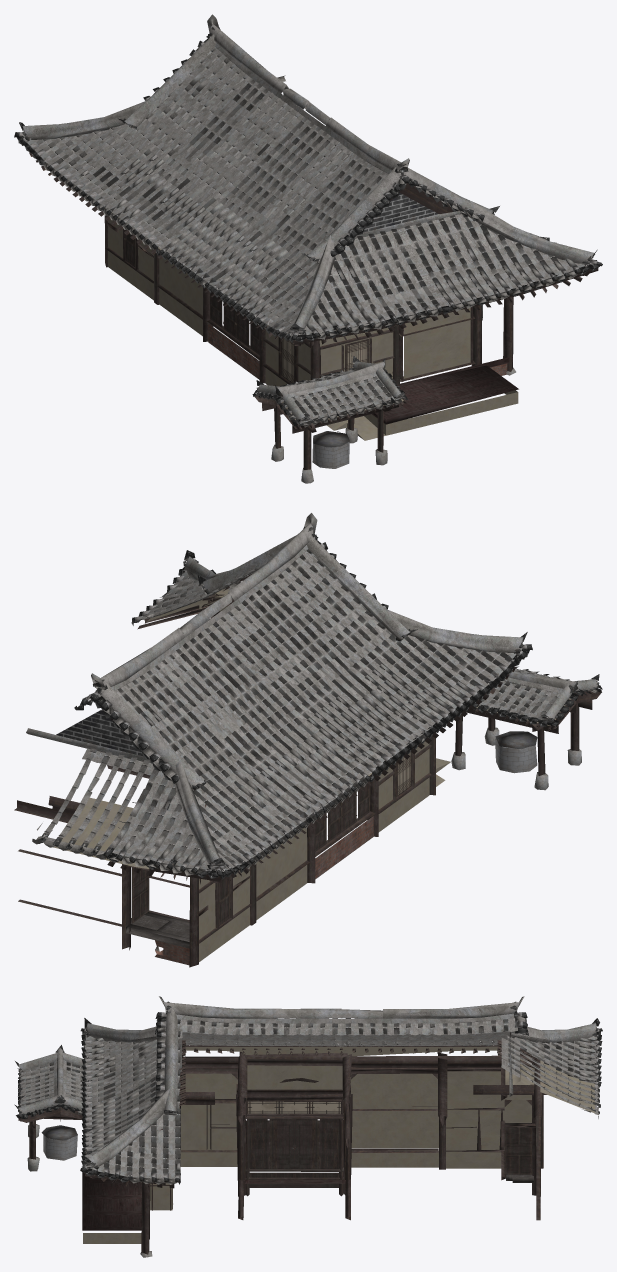
The model's file is gIENGLow2.fbx.
3 views of the same model, one above another, from view 1: azimuth 30°, elevation 25°; view 2: azimuth 150°, elevation 25°; view 3: azimuth 270°, elevation 25° (orthographic). The views are drawn at different scales.
Parts seen in each view (by area): view 1: Sarangchae; view 2: Sarangchae; view 3: Sarangchae.
Part boxes in pixels (x1,y1,x2,y2): Sarangchae: (14,14,602,483); Sarangchae: (14,513,602,967); Sarangchae: (14,996,602,1257).
Bounding box in the file's own units: 1325 × 860 × 2119.
